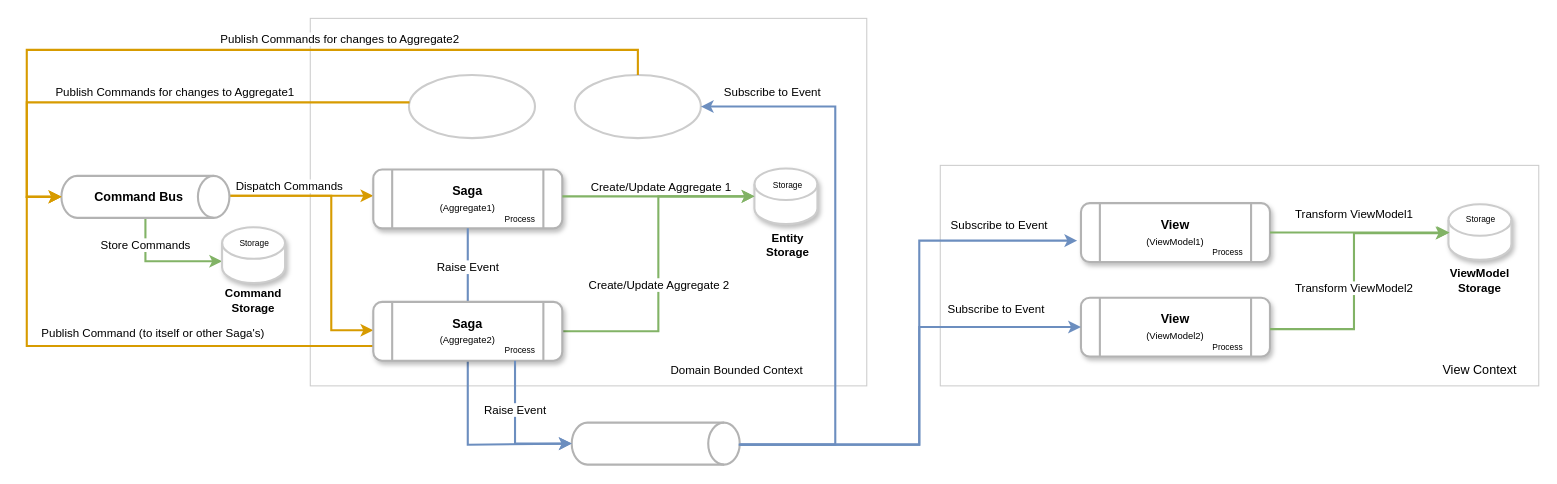
Image size: 1557x484. Some labels were removed from this diagram. Here are the shapes that lost their labels. From the top down, the centre of each, then its label:
At point (471, 106): "Aggregate (Aggregate1)".
At point (637, 106): "Aggregate (Aggregate2)".
At point (655, 443): "Event Queue".
